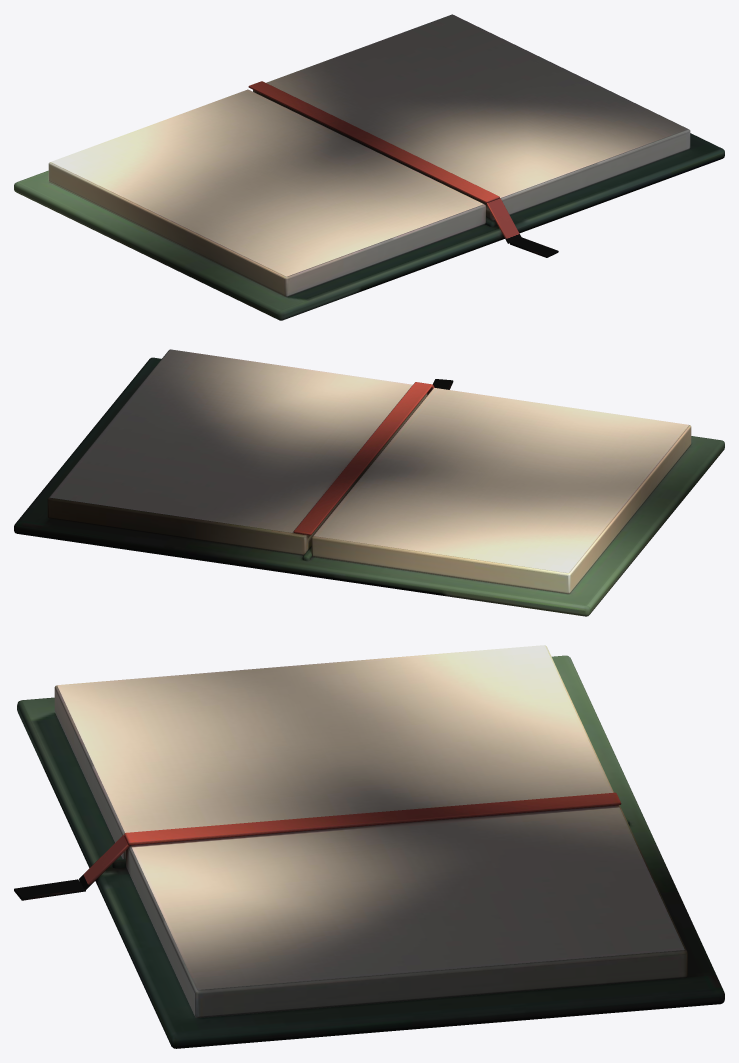
Rendered from notebook.glb.
The picture shows the model from 3 angles, top to bottom: view 1: azimuth 30°, elevation 25°; view 2: azimuth 150°, elevation 25°; view 3: azimuth 270°, elevation 25°; orthographic projection. The views are drawn at different scales.
Visible parts, largest first — view 1: nb_page_l, nb_page_r, nb_cover, nb_block_l, nb_block_r, nb_ribbon, nb_ribbon_b; view 2: nb_page_l, nb_page_r, nb_cover, nb_block_l, nb_block_r, nb_ribbon; view 3: nb_page_l, nb_page_r, nb_cover, nb_block_r, nb_ribbon, nb_block_l, nb_ribbon_c, nb_ribbon_b.
Boxes of the visible parts, x1=… form: nb_page_l: x1=51, y1=89, x2=483, y2=276; nb_page_r: x1=266, y1=14, x2=687, y2=198; nb_cover: x1=14, y1=133, x2=724, y2=320; nb_block_l: x1=48, y1=100, x2=485, y2=296; nb_block_r: x1=253, y1=15, x2=690, y2=220; nb_ribbon: x1=248, y1=81, x2=499, y2=202; nb_ribbon_b: x1=486, y1=198, x2=521, y2=243; nb_page_l: x1=314, y1=388, x2=688, y2=572; nb_page_r: x1=50, y1=349, x2=412, y2=534; nb_cover: x1=14, y1=357, x2=724, y2=616; nb_block_l: x1=311, y1=388, x2=691, y2=593; nb_block_r: x1=47, y1=349, x2=427, y2=555; nb_ribbon: x1=293, y1=382, x2=432, y2=535; nb_page_l: x1=57, y1=645, x2=612, y2=832; nb_page_r: x1=131, y1=805, x2=684, y2=989; nb_cover: x1=17, y1=655, x2=724, y2=1048; nb_block_r: x1=126, y1=805, x2=687, y2=1017; nb_ribbon: x1=124, y1=792, x2=621, y2=845; nb_block_l: x1=54, y1=645, x2=613, y2=858; nb_ribbon_c: x1=14, y1=879, x2=85, y2=900; nb_ribbon_b: x1=79, y1=835, x2=129, y2=889.
Bounding box in the file's own units: 0.3612 × 0.0198 × 0.2834.
9 materials, 9 textured.
